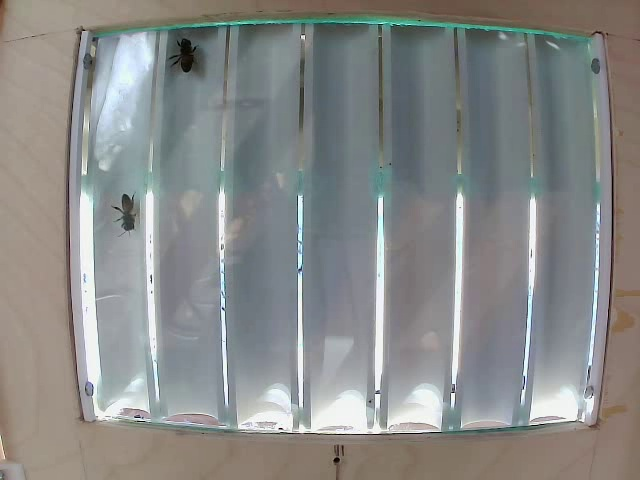bee: (174, 29, 207, 78), (115, 187, 144, 228)
